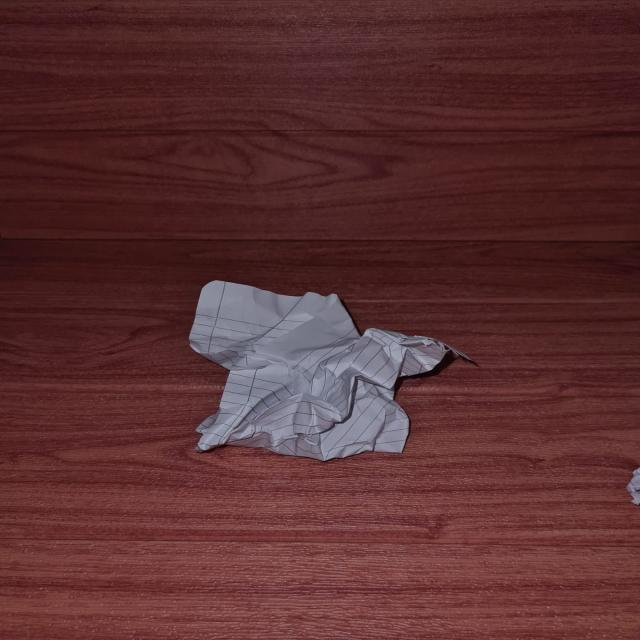Paper: (192, 279, 454, 458)
